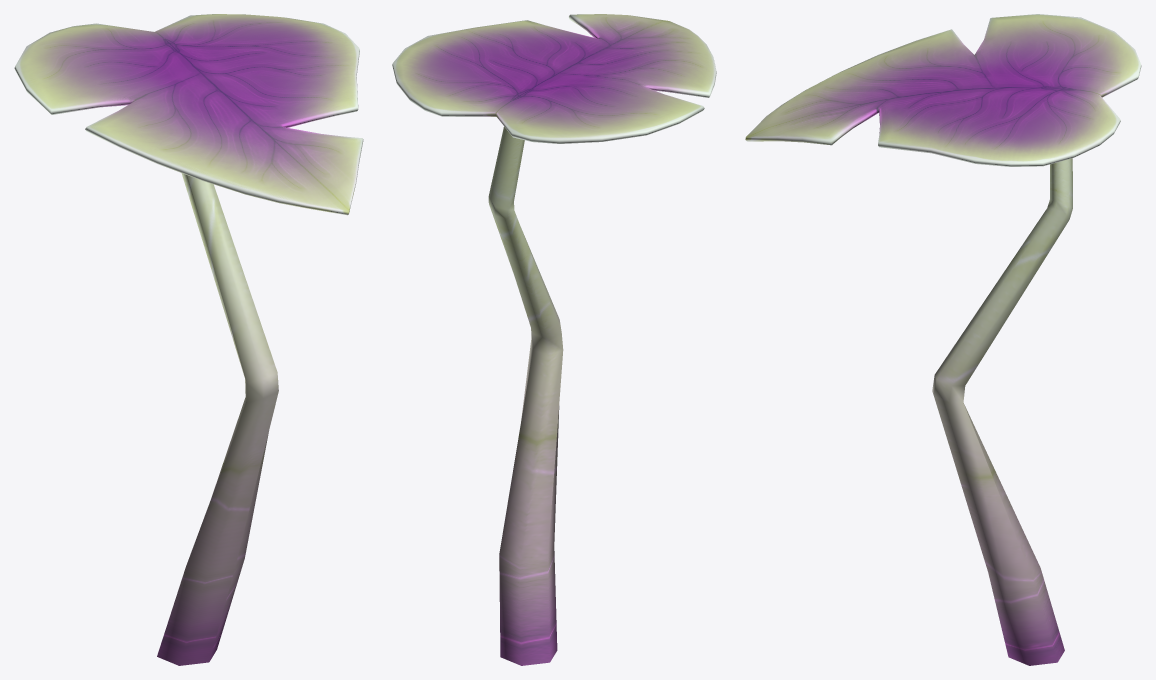
The model's file is Lily2.fbx.
3 views of the same model, side by side, from view 1: azimuth 30°, elevation 25°; view 2: azimuth 150°, elevation 25°; view 3: azimuth 270°, elevation 25° (orthographic). The views are drawn at different scales.
Parts seen in each view (by area): view 1: Lily2; view 2: Lily2; view 3: Lily2.
Part boxes in pixels (x1=…): Lily2: x1=14, y1=14, x2=363, y2=665; Lily2: x1=392, y1=14, x2=716, y2=665; Lily2: x1=745, y1=14, x2=1141, y2=665.
Size of the model in its own units: 756 by 1432 by 901.
1 material, 1 textured.
